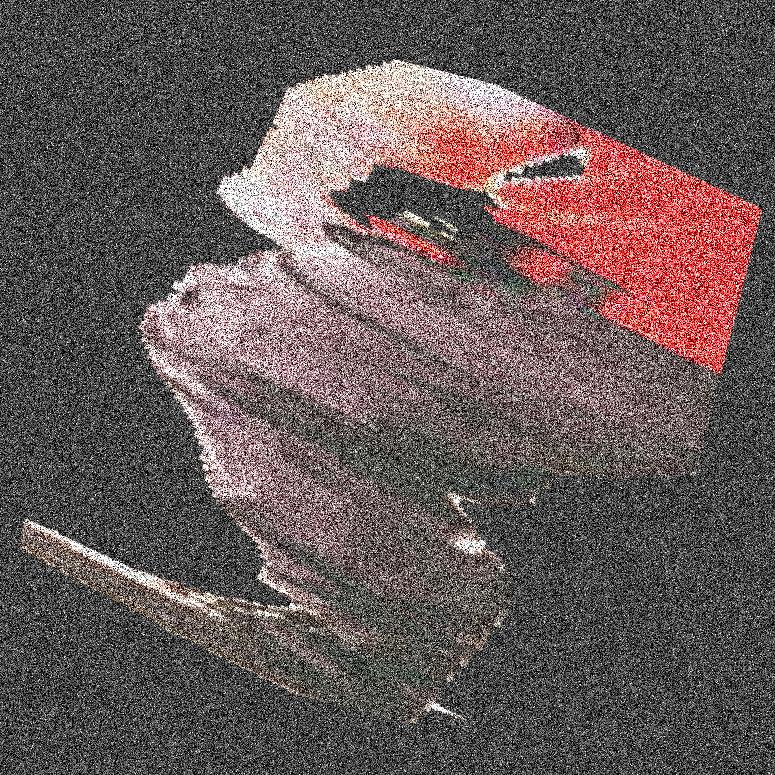Pessoa: (293, 0, 774, 774)
